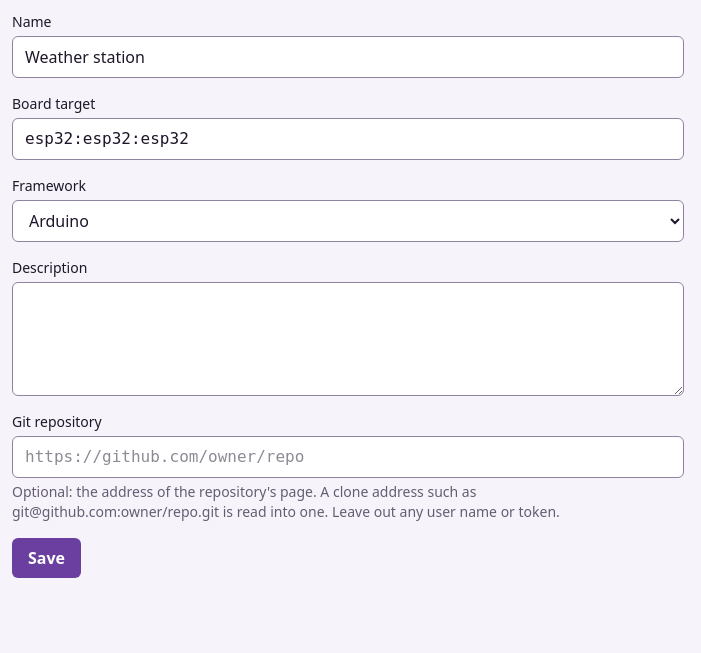
it: FirmwareForm › says the firmware is gone when an edit is refused with a 404
The width and height of the screenshot is (701, 653).
Click the button "Save". click: click(46, 558)
box: [12,538,81,578]
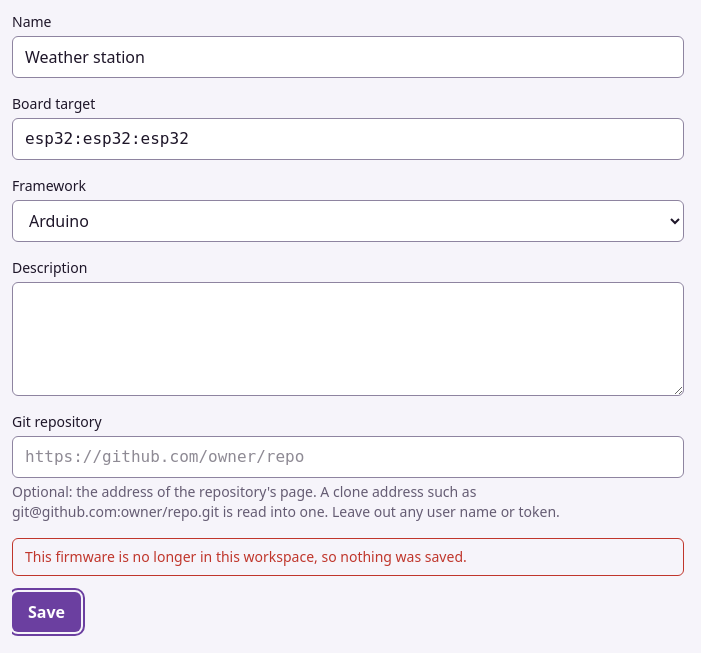
Expected: the message reads "This firmware is no longer in this workspace, so nothing was saved.", [25,547,467,566]
